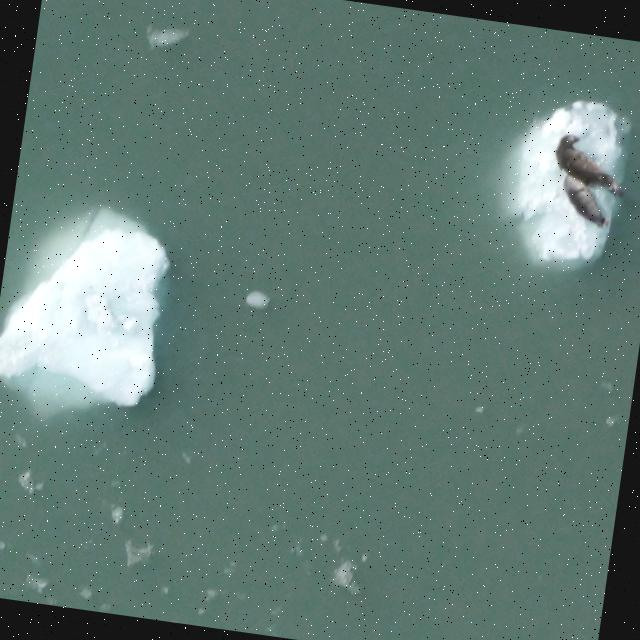seal: (546, 127, 637, 202), (554, 169, 616, 233)
